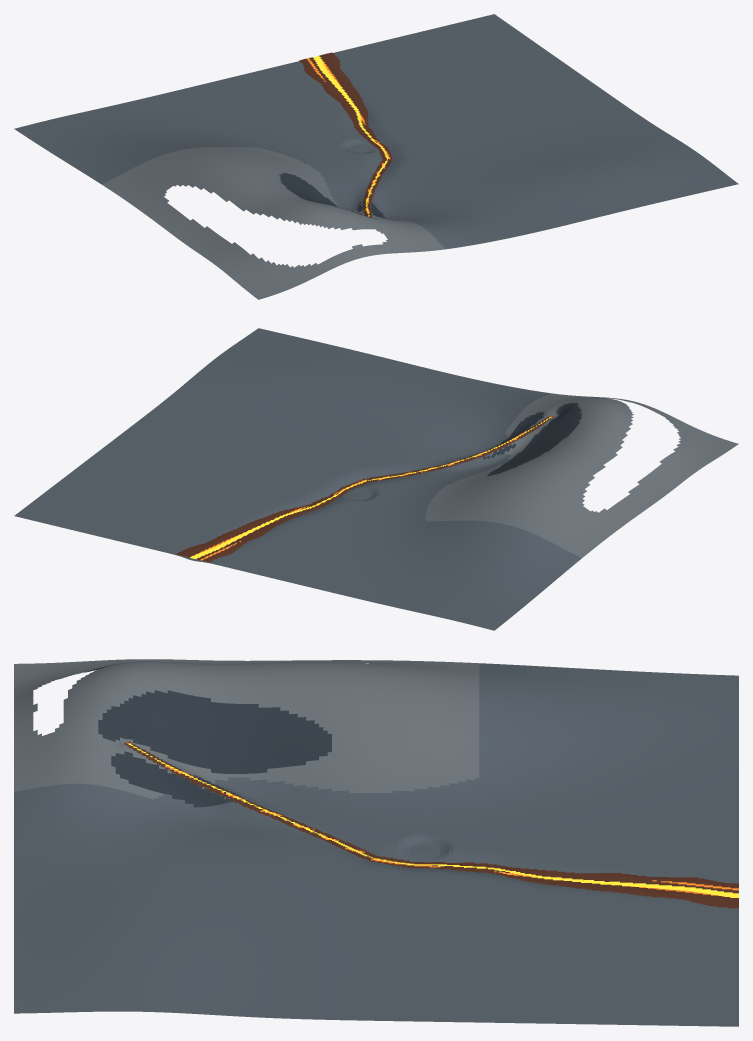
The model's file is ember-breached-rift-bench-graybox.glb.
The picture shows the model from 3 angles, top to bottom: view 1: azimuth 30°, elevation 25°; view 2: azimuth 150°, elevation 25°; view 3: azimuth 270°, elevation 25°; orthographic projection. The views are drawn at different scales.
Parts seen in each view (by area): view 1: EMBER_Terrain, EMBER_LavaFootprintGraybox; view 2: EMBER_Terrain, EMBER_LavaFootprintGraybox; view 3: EMBER_Terrain, EMBER_LavaFootprintGraybox.
Part boxes in pixels (x1,y1,x2,y2): EMBER_Terrain: (14, 14, 738, 299); EMBER_LavaFootprintGraybox: (299, 52, 392, 217); EMBER_Terrain: (14, 328, 738, 630); EMBER_LavaFootprintGraybox: (176, 415, 553, 562); EMBER_Terrain: (14, 659, 738, 1026); EMBER_LavaFootprintGraybox: (124, 742, 738, 908).
Bounding box in the file's own units: 380 × 39.3 × 335.
